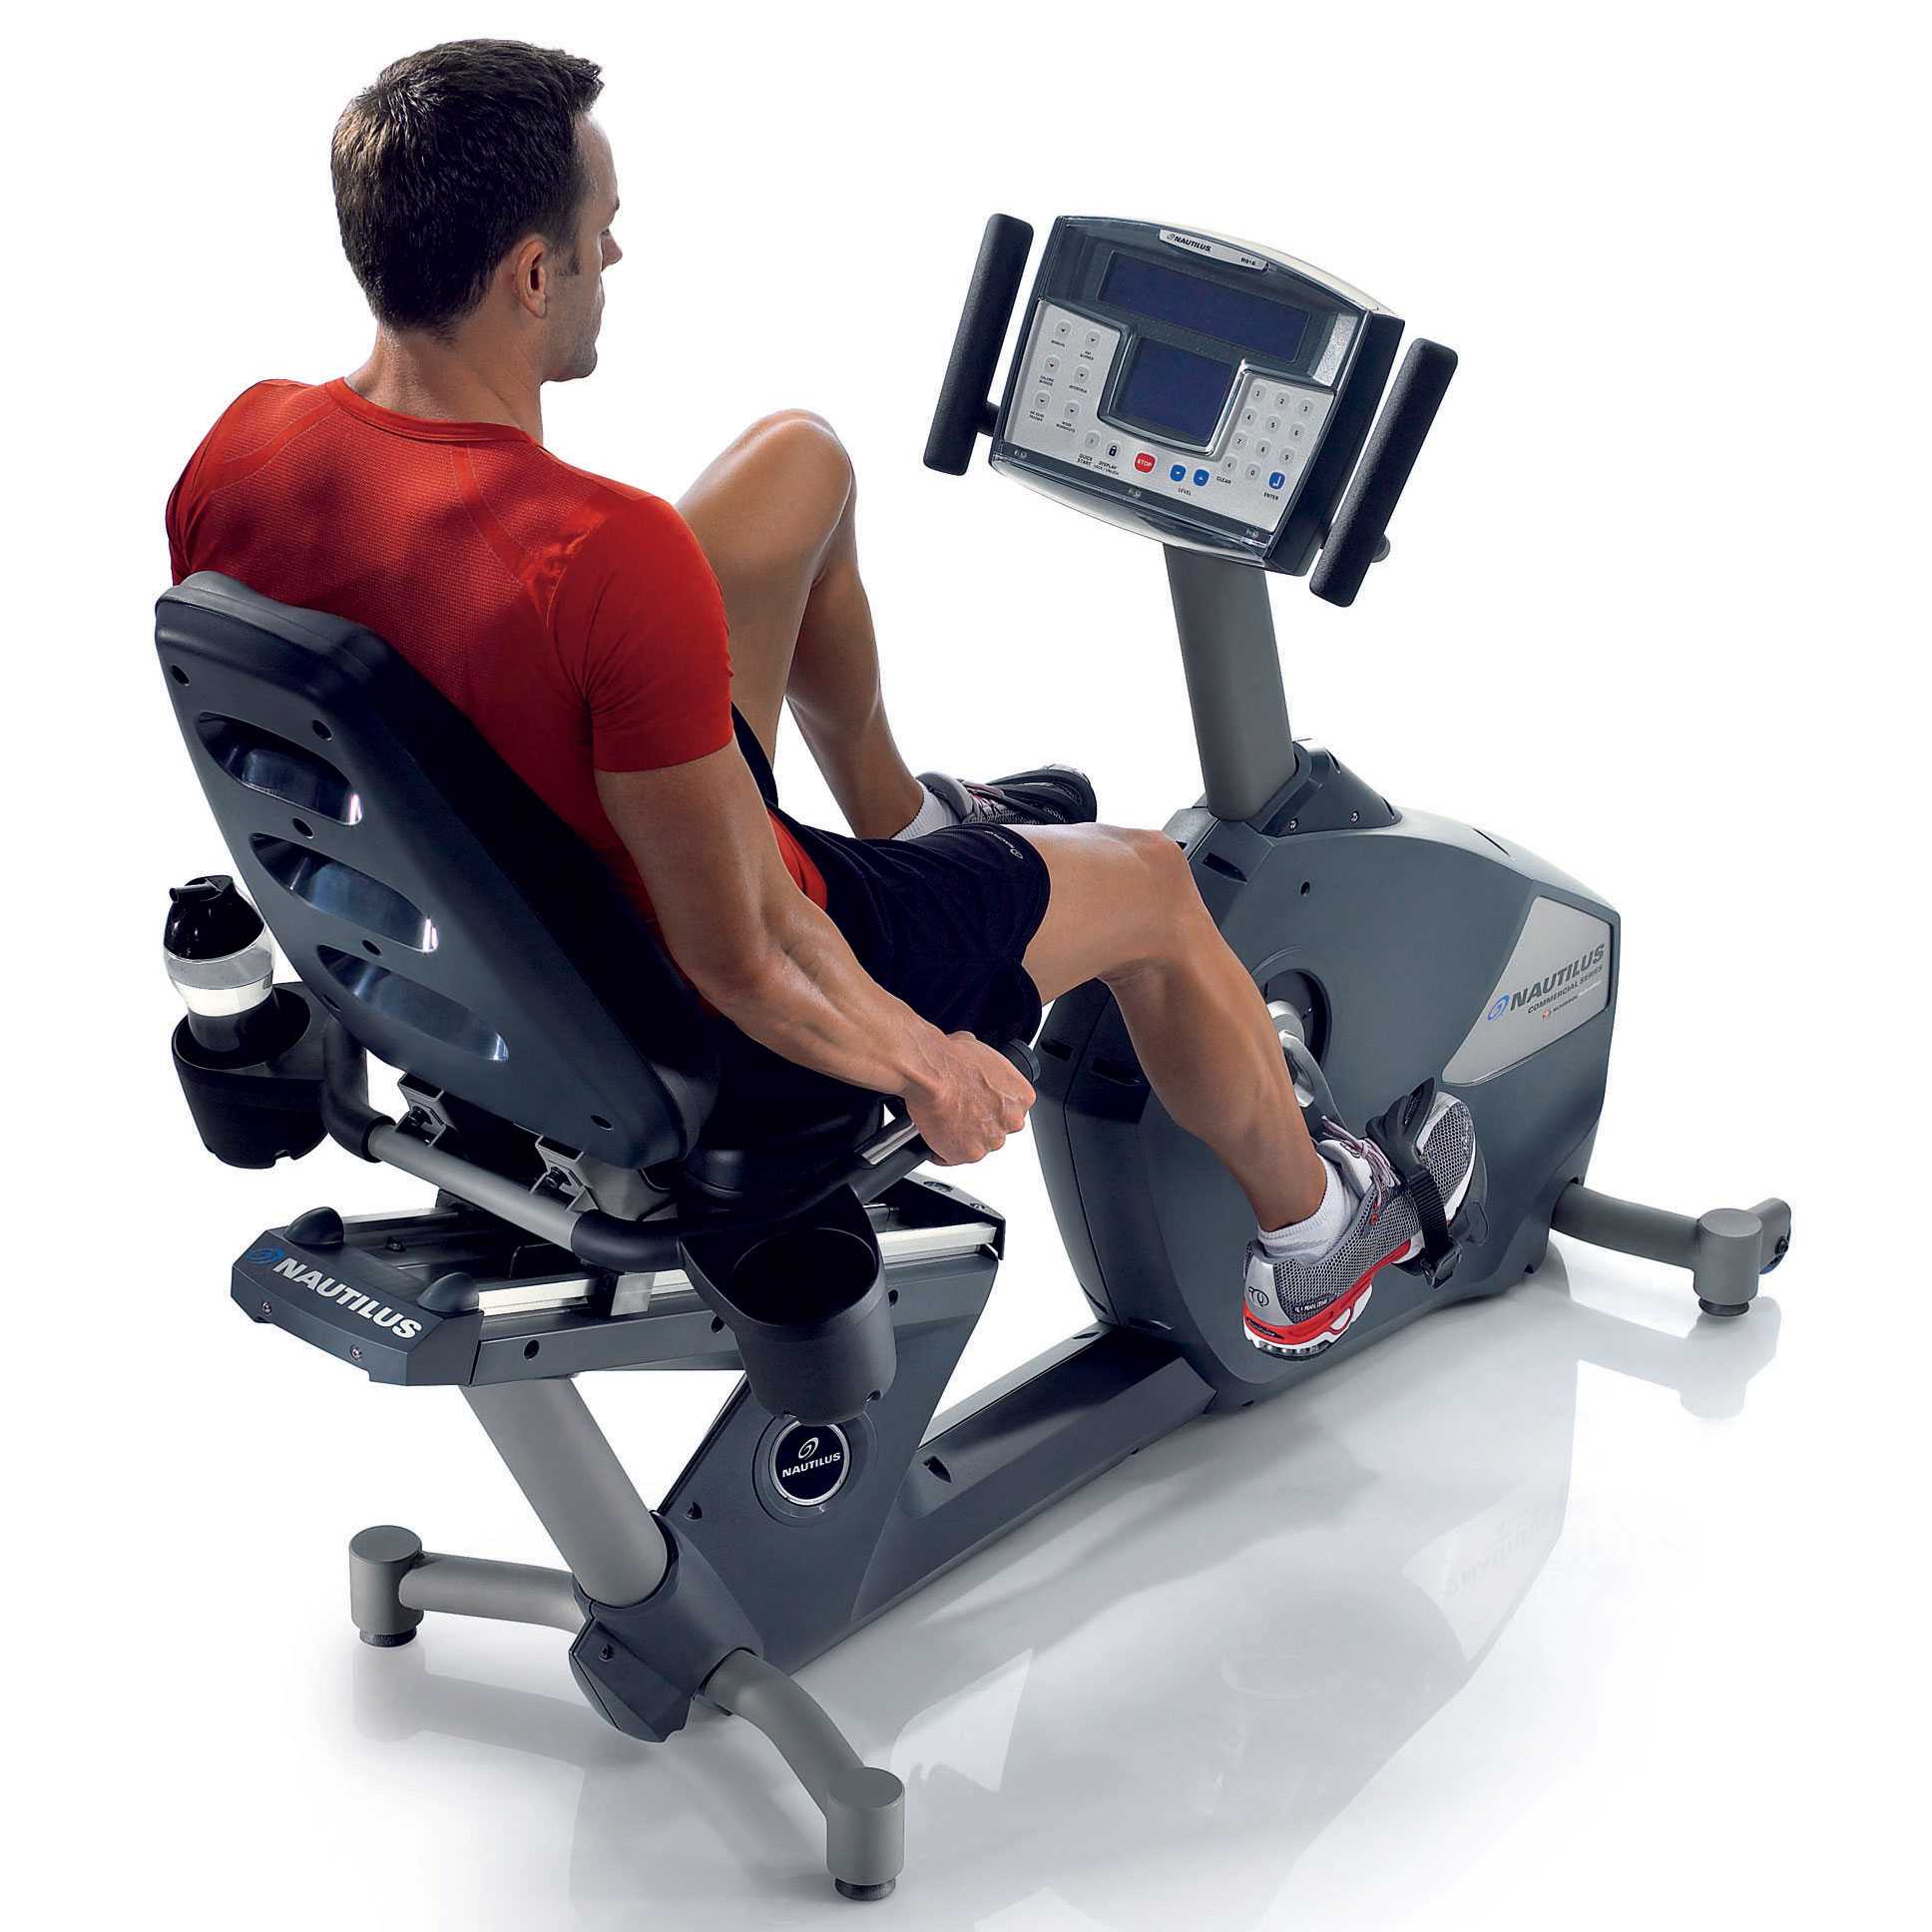gym_bike: (85, 177, 1817, 1890)
